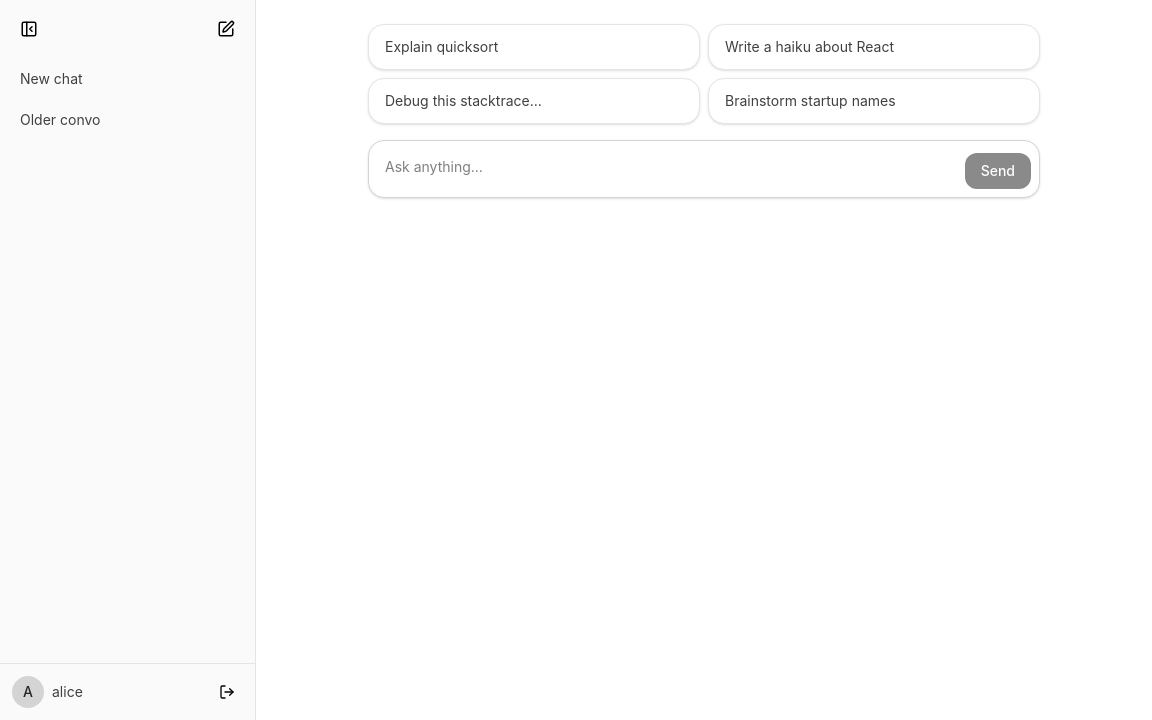
Test: Live sidebar updates (M4.3) › retitles a "New chat" sidebar entry after the first user message
Expected: the button "New chat" is shown, [20, 68, 203, 88]
Expected: the element named "start a new chat" is shown, [368, 24, 1040, 198]
// Send the first message in session 1.
Step 1. Type "Plan a trip to Kyoto" into the text box named "message" → (667, 169), box [377, 149, 957, 189]
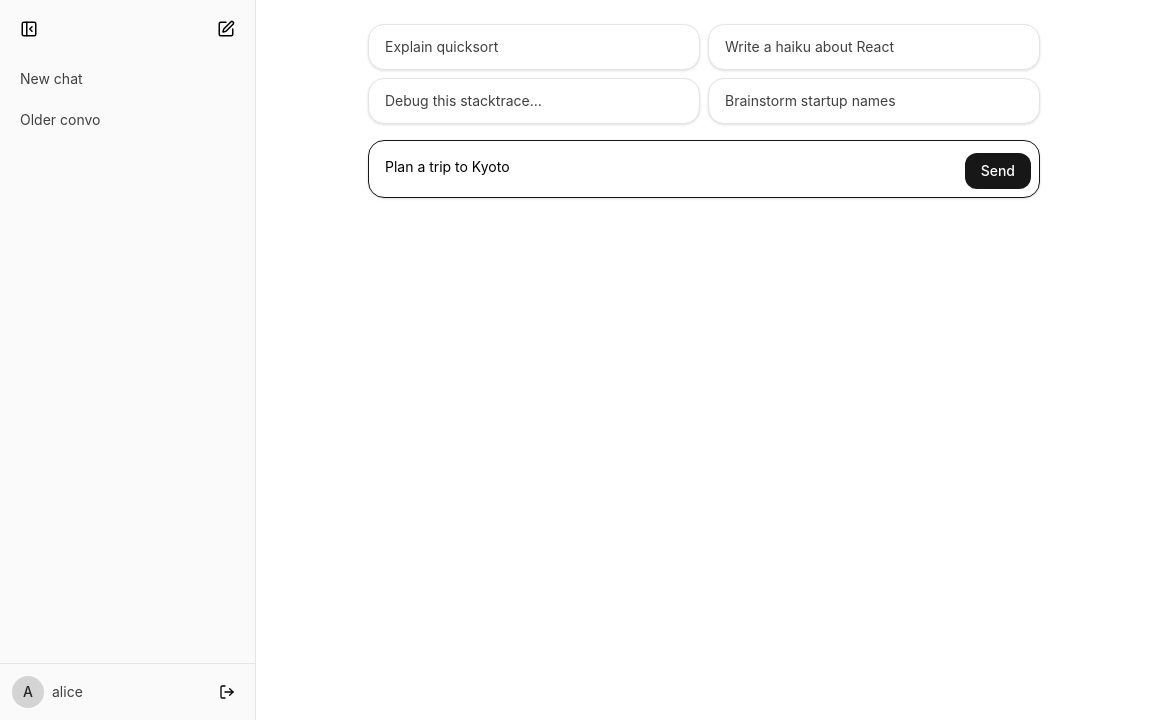
Step 2. Click the button "Send" → (998, 171), box [965, 153, 1031, 189]
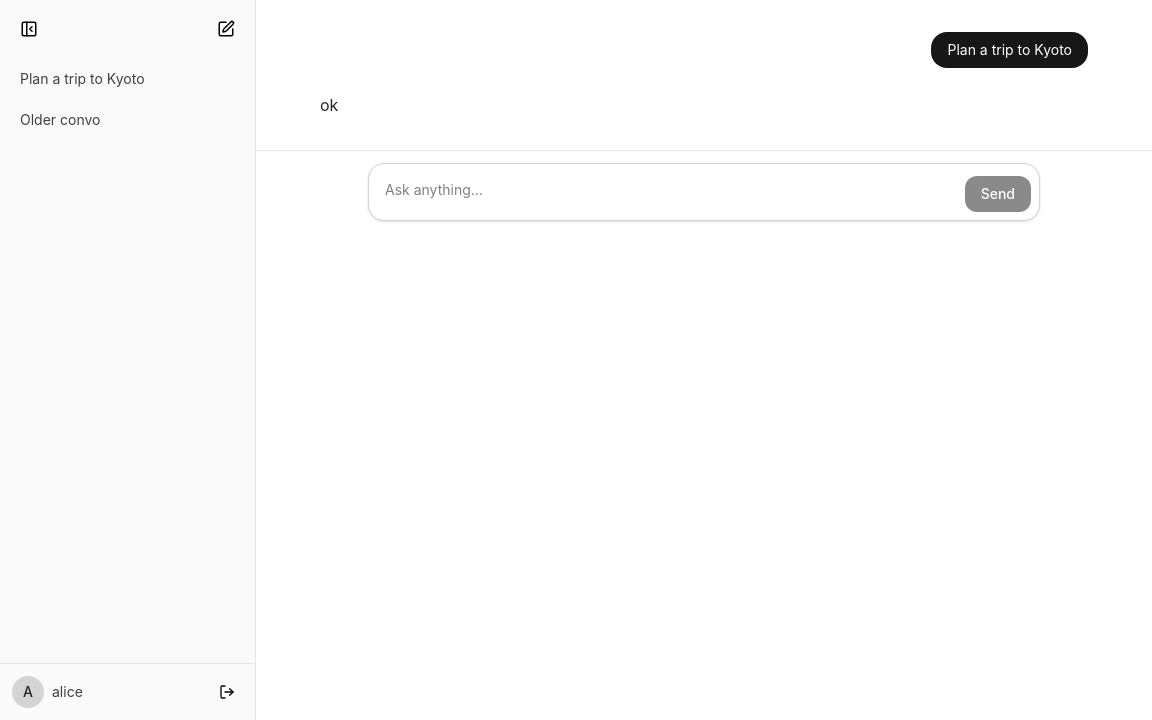
Result: the button "Plan a trip to Kyoto" is shown at [20, 68, 203, 88]
Result: the button "New chat" is gone
